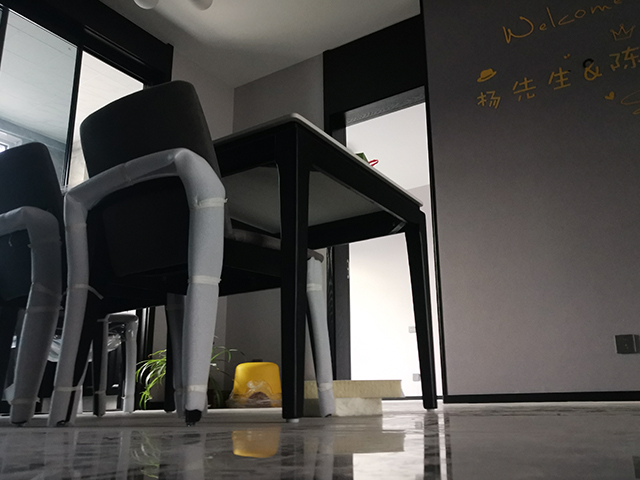stool: (44, 78, 340, 427), (1, 138, 144, 427), (228, 359, 283, 410)
table: (82, 111, 440, 425)
